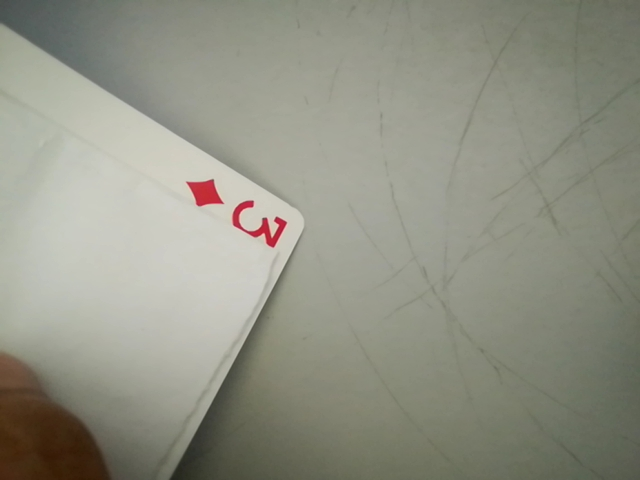fk 3: (178, 173, 297, 254)
